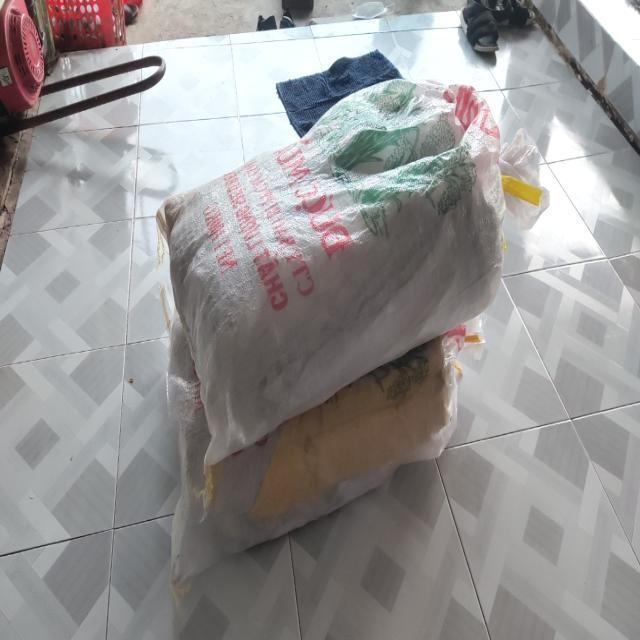gunny_bag: (157, 79, 504, 467), (167, 310, 462, 599)
